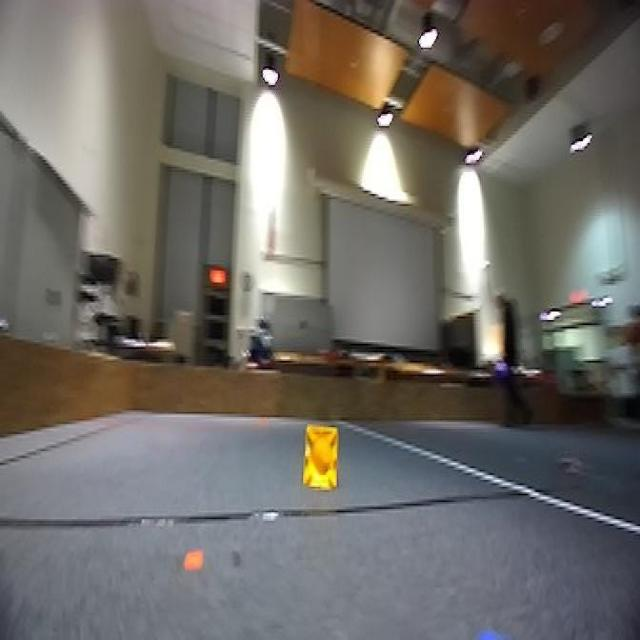frc_cone: (296, 419, 346, 495)
